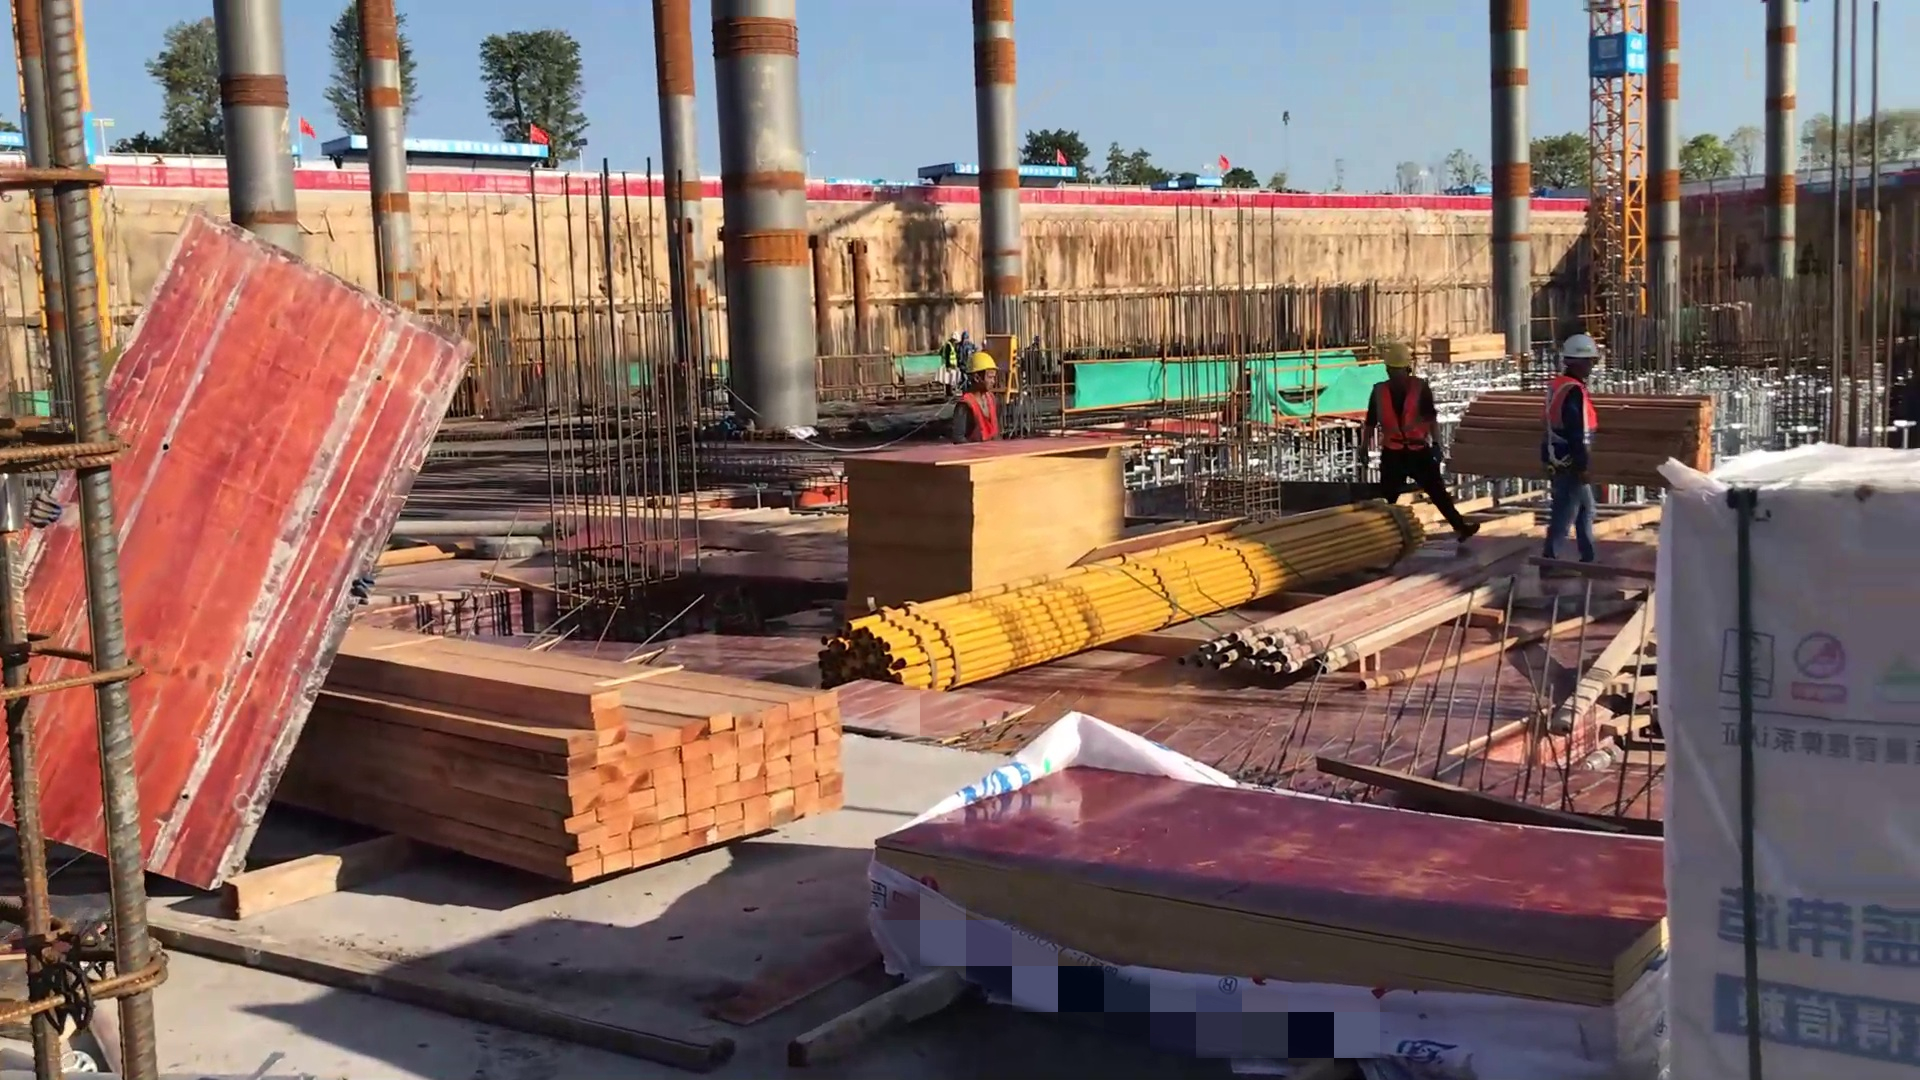board: (869, 764, 1693, 1014), (824, 426, 1143, 617)
ebox: (987, 331, 1025, 403)
helmet: (1556, 331, 1604, 372), (1383, 338, 1419, 375), (961, 350, 1000, 380)
person: (1363, 334, 1486, 554), (1529, 323, 1621, 575), (944, 341, 1004, 455)
vest: (1540, 376, 1606, 484), (1372, 379, 1433, 465), (953, 387, 997, 445)
wood: (269, 617, 853, 890), (1446, 393, 1734, 493)
